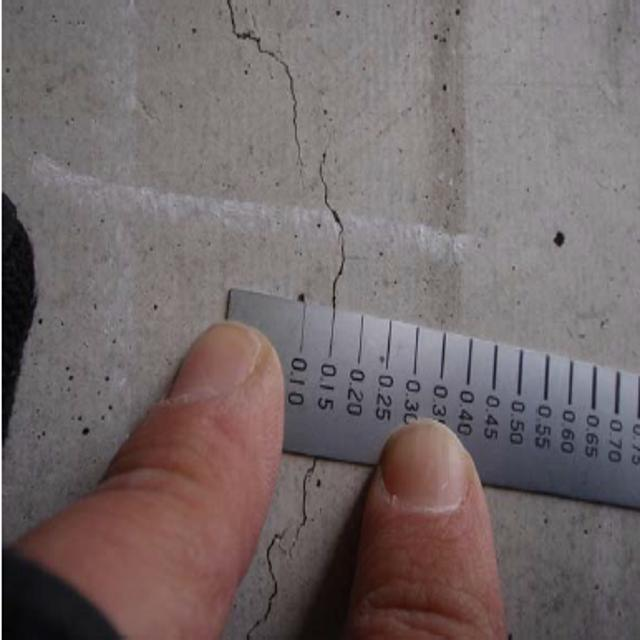crack: (218, 14, 373, 310), (238, 445, 347, 640)
